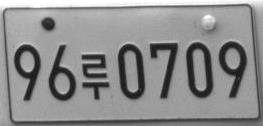0: (184, 40, 214, 98), (117, 43, 145, 99)
6: (48, 44, 76, 101)
7: (148, 42, 178, 98)
9: (218, 40, 248, 98), (13, 43, 41, 101)
루: (81, 53, 109, 100)
